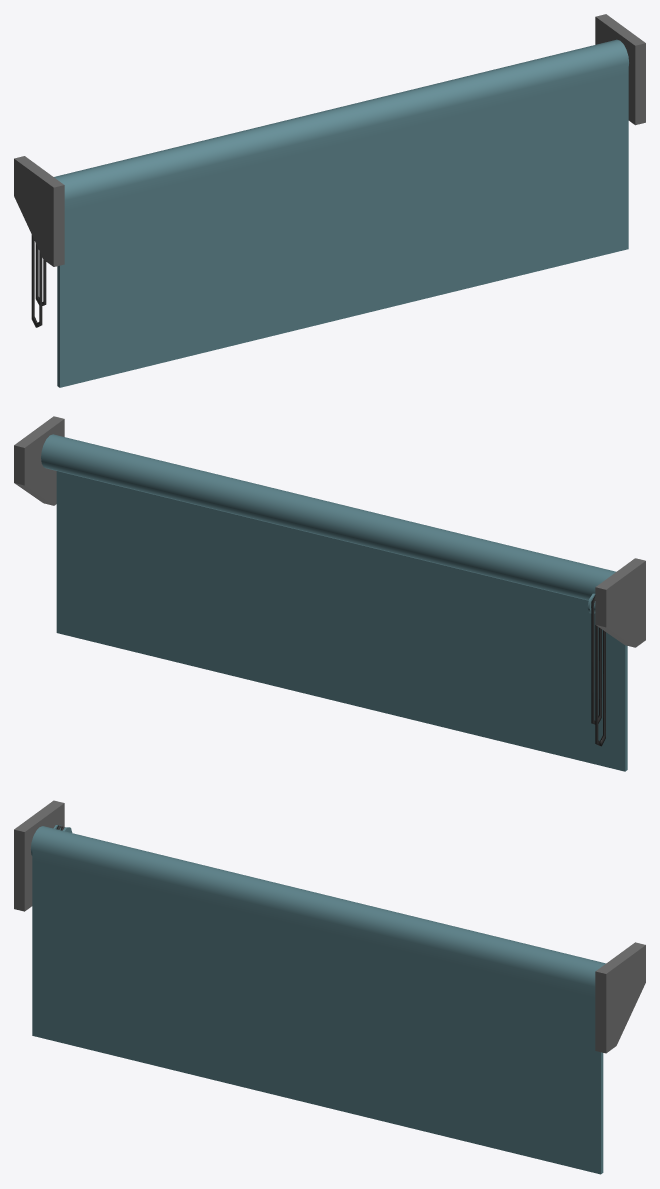
File: industrial door.fbx
3 renders of one model, top to bottom at view 1: azimuth 30°, elevation 25°; view 2: azimuth 150°, elevation 25°; view 3: azimuth 330°, elevation 25°, orthographic.
Visible parts, largest first — view 1: pCube7; view 2: pCube7; view 3: pCube7.
Part boxes in pixels (box(x1,y1,x2,y2)): pCube7: box(14, 14, 645, 387); pCube7: box(14, 416, 645, 771); pCube7: box(14, 800, 645, 1174).
Bounding box in the file's own units: 167 × 55.83 × 19.38.
